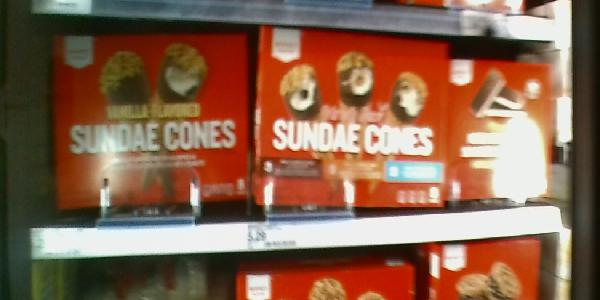icecream: (42, 22, 248, 227), (260, 25, 441, 213), (442, 54, 552, 232)
